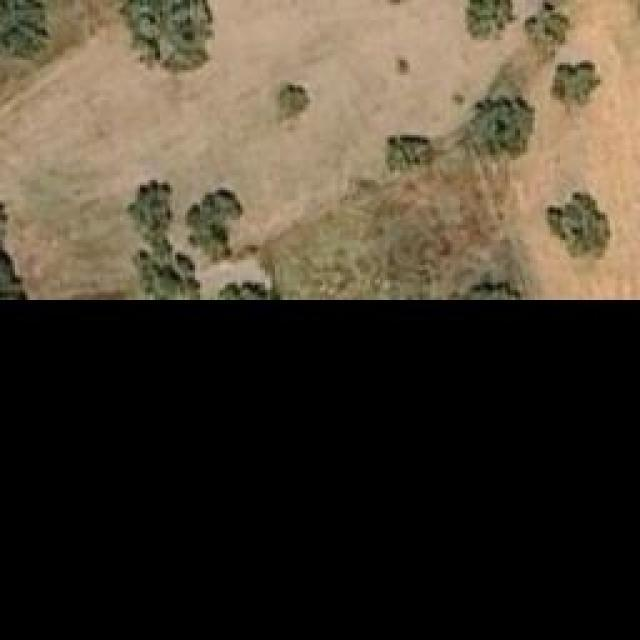Tree: (117, 0, 214, 72), (545, 192, 610, 270), (185, 188, 243, 263), (135, 237, 198, 295), (480, 98, 533, 158), (525, 0, 573, 60), (385, 135, 445, 183), (0, 0, 42, 67), (550, 60, 603, 108), (128, 180, 173, 233), (465, 0, 518, 40), (278, 83, 311, 123)
